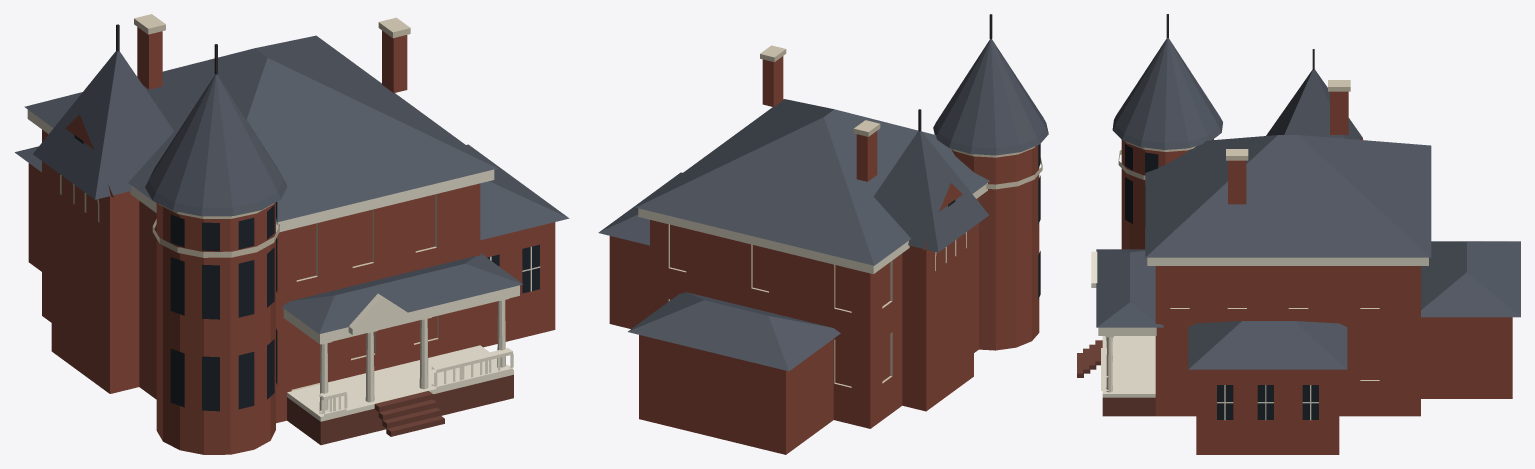
Rendered from holtzman-vinsonhaler-house.glb.
The picture shows the model from 3 angles, left to right: view 1: azimuth 30°, elevation 25°; view 2: azimuth 150°, elevation 25°; view 3: azimuth 270°, elevation 25°; orthographic projection. The views are drawn at different scales.
Parts seen in each view (by area): view 1: holtzman_brick, holtzman_roof, holtzman_trim, holtzman_glass, holtzman_base, holtzman_stone, holtzman_wood; view 2: holtzman_brick, holtzman_roof, holtzman_trim, holtzman_stone; view 3: holtzman_roof, holtzman_brick, holtzman_trim, holtzman_glass, holtzman_base, holtzman_stone.
Part boxes in pixels (<box>): holtzman_brick: <box>28,27,555,454</box>; holtzman_roof: <box>15,35,569,334</box>; holtzman_trim: <box>27,109,519,421</box>; holtzman_glass: <box>74,135,539,411</box>; holtzman_base: <box>287,374,513,445</box>; holtzman_stone: <box>60,14,438,390</box>; holtzman_wood: <box>319,300,505,410</box>; holtzman_brick: <box>609,56,1039,454</box>; holtzman_roof: <box>598,39,1048,371</box>; holtzman_trim: <box>638,183,987,274</box>; holtzman_stone: <box>668,45,1042,387</box>; holtzman_roof: <box>1096,38,1520,369</box>; holtzman_brick: <box>1121,91,1512,454</box>; holtzman_trim: <box>1091,251,1428,397</box>; holtzman_glass: <box>1125,144,1318,419</box>; holtzman_base: <box>1077,340,1155,416</box>; holtzman_stone: <box>1118,80,1379,380</box>.
Size of the model in its own units: 19.05 by 16.4 by 21.75.
